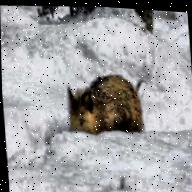boar: (63, 68, 148, 139)
